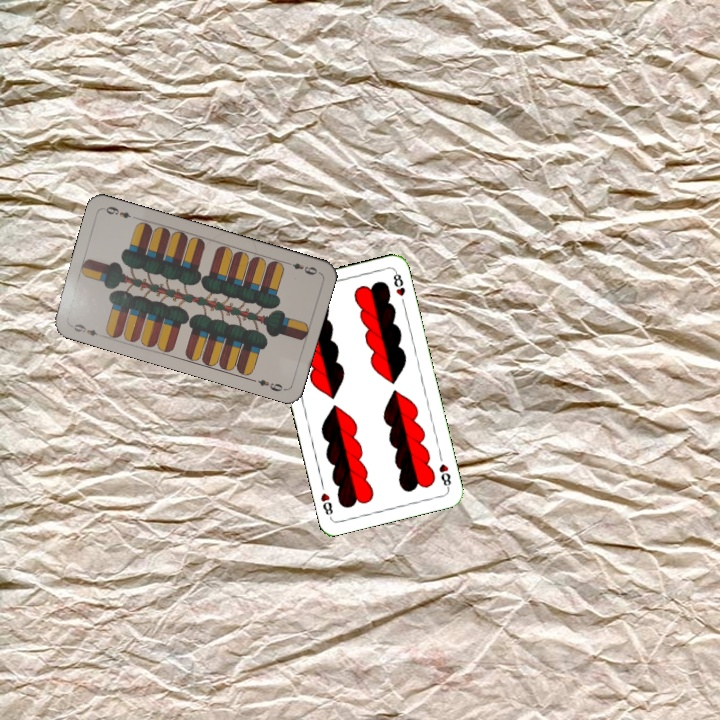E9: (282, 257, 320, 278), (70, 320, 106, 340)
H8: (435, 459, 454, 491)
